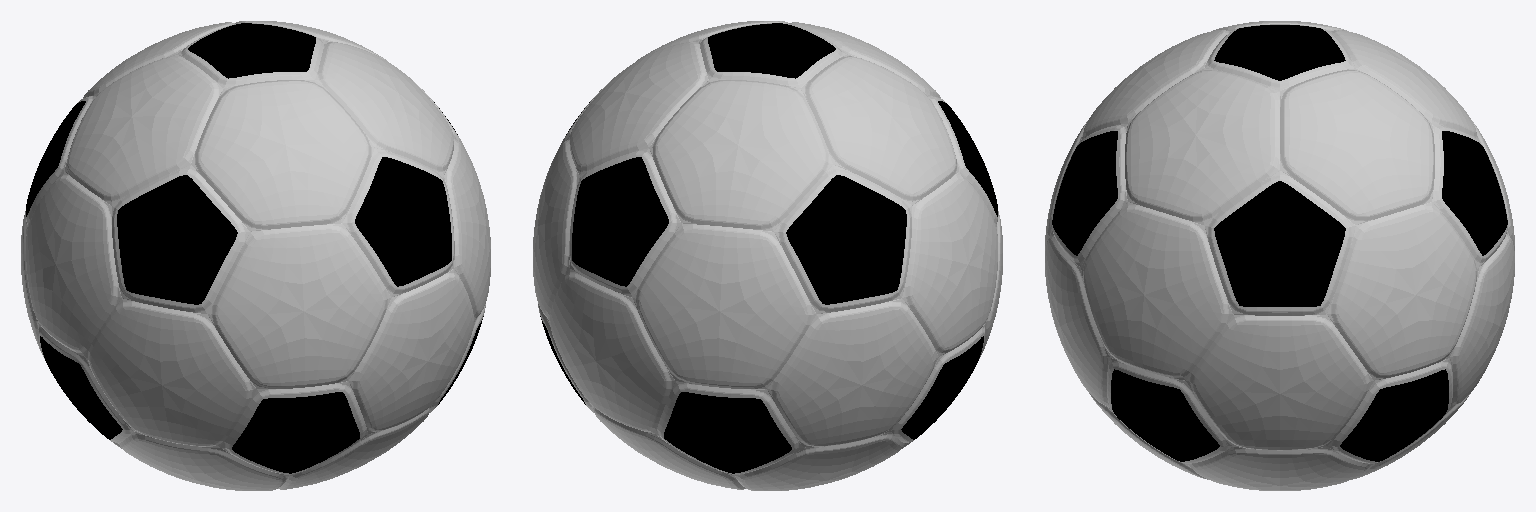
The model's file is ball.obj.
3 views of the same model, side by side, from view 1: azimuth 30°, elevation 25°; view 2: azimuth 150°, elevation 25°; view 3: azimuth 270°, elevation 25° (orthographic).
Visible parts, largest first — view 1: Icosphere; view 2: Icosphere; view 3: Icosphere.
Part boxes in pixels (x1,y1,x2,y2): Icosphere: (21,21,490,490); Icosphere: (533,21,1002,490); Icosphere: (1045,21,1514,490).
Size of the model in its own units: 1.69 by 1.69 by 1.69.